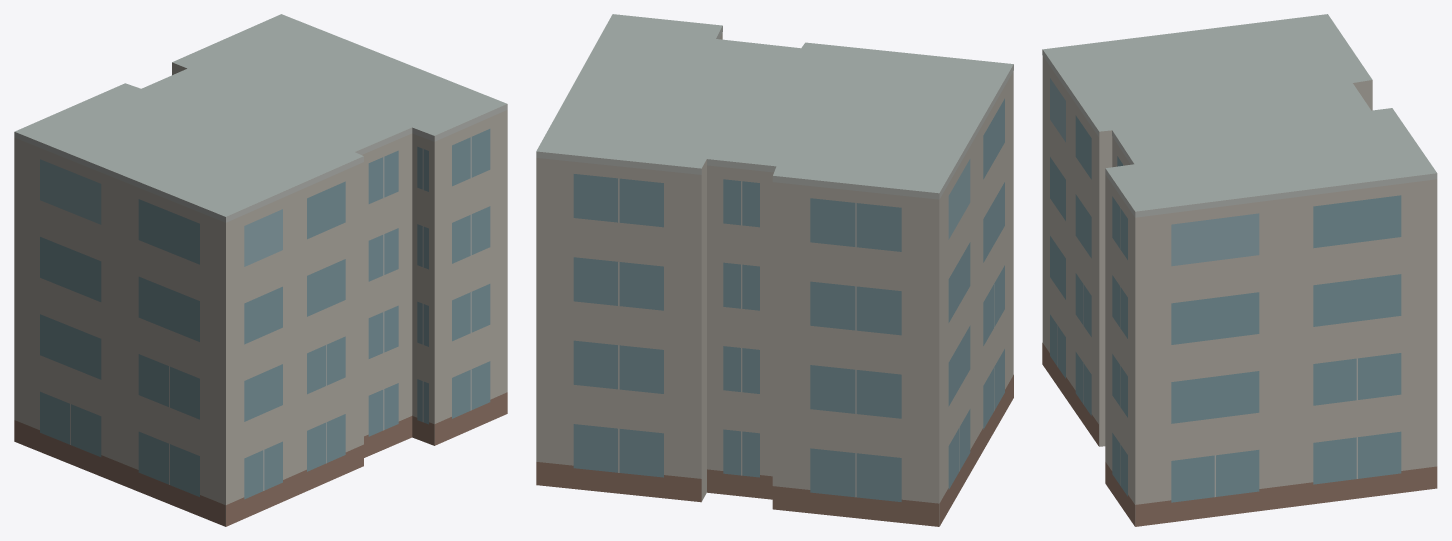
Rendered from survey-upis-32629456.glb.
3 views of the same model, side by side, from view 1: azimuth 30°, elevation 25°; view 2: azimuth 150°, elevation 25°; view 3: azimuth 270°, elevation 25° (orthographic). The views are drawn at different scales.
Parts seen in each view (by area): view 1: survey-upis-32629456.tmp; view 2: survey-upis-32629456.tmp; view 3: survey-upis-32629456.tmp.
Boxes of the visible parts, <box> form: survey-upis-32629456.tmp: <box>14,14,507,526</box>; survey-upis-32629456.tmp: <box>536,14,1013,526</box>; survey-upis-32629456.tmp: <box>1042,14,1437,526</box>.
Size of the model in its own units: 17.23 by 12.8 by 14.54.
